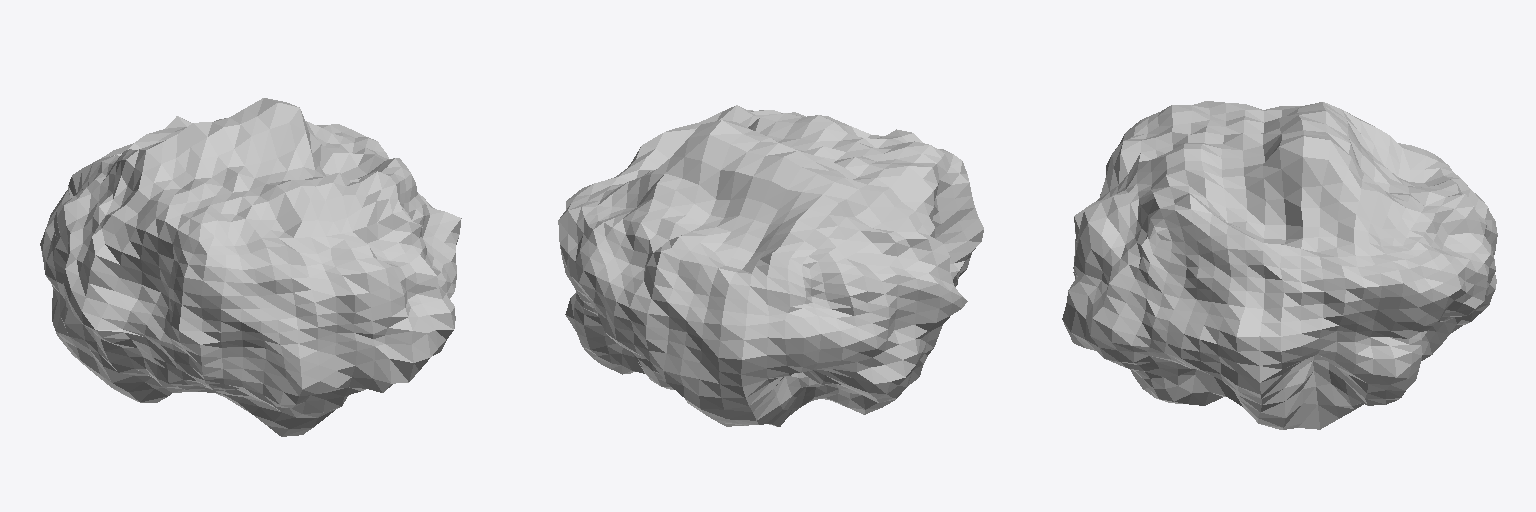
The model's file is windswept_desert_rock.obj.
3 views of the same model, side by side, from view 1: azimuth 30°, elevation 25°; view 2: azimuth 150°, elevation 25°; view 3: azimuth 270°, elevation 25° (orthographic).
Visible parts, largest first — view 1: Cube; view 2: Cube; view 3: Cube.
Boxes of the visible parts, box(x1,y1,x2,y2) form: Cube: box(40, 98, 461, 436); Cube: box(558, 105, 983, 426); Cube: box(1062, 101, 1497, 429).
Bounding box in the file's own units: 4.06 × 2.85 × 4.13.